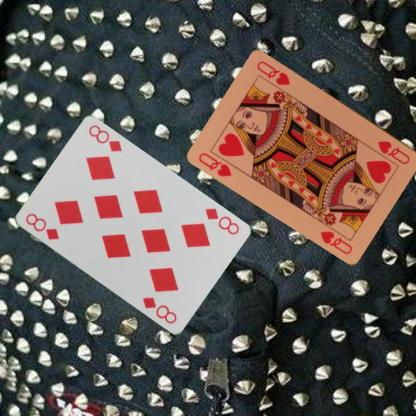8d: (23, 210, 60, 242), (203, 205, 240, 236)
Qh: (375, 137, 411, 166), (196, 150, 233, 178)
